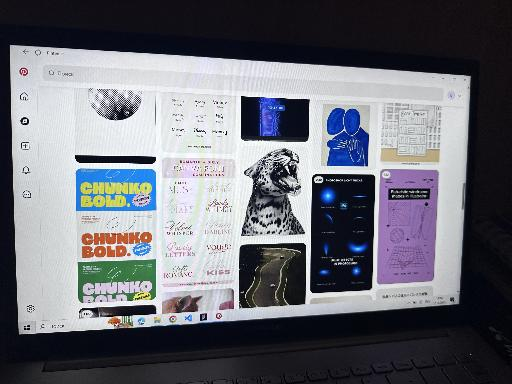pinterest: (10, 65, 465, 305)
